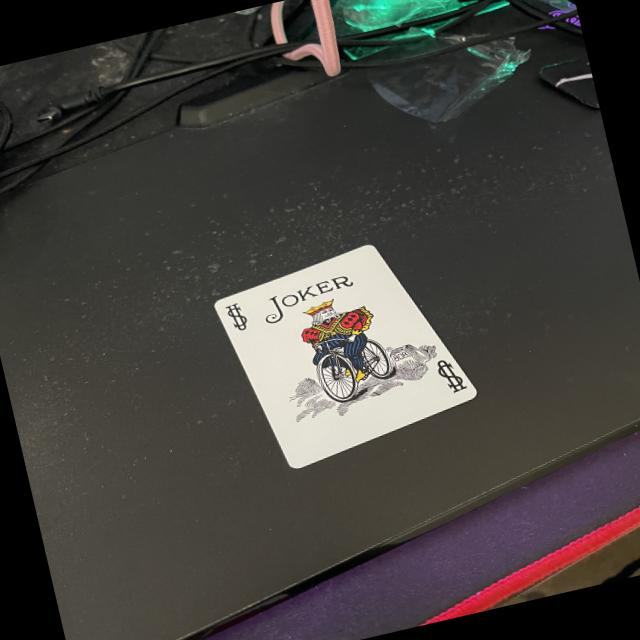Joker: (166, 212, 503, 503)
